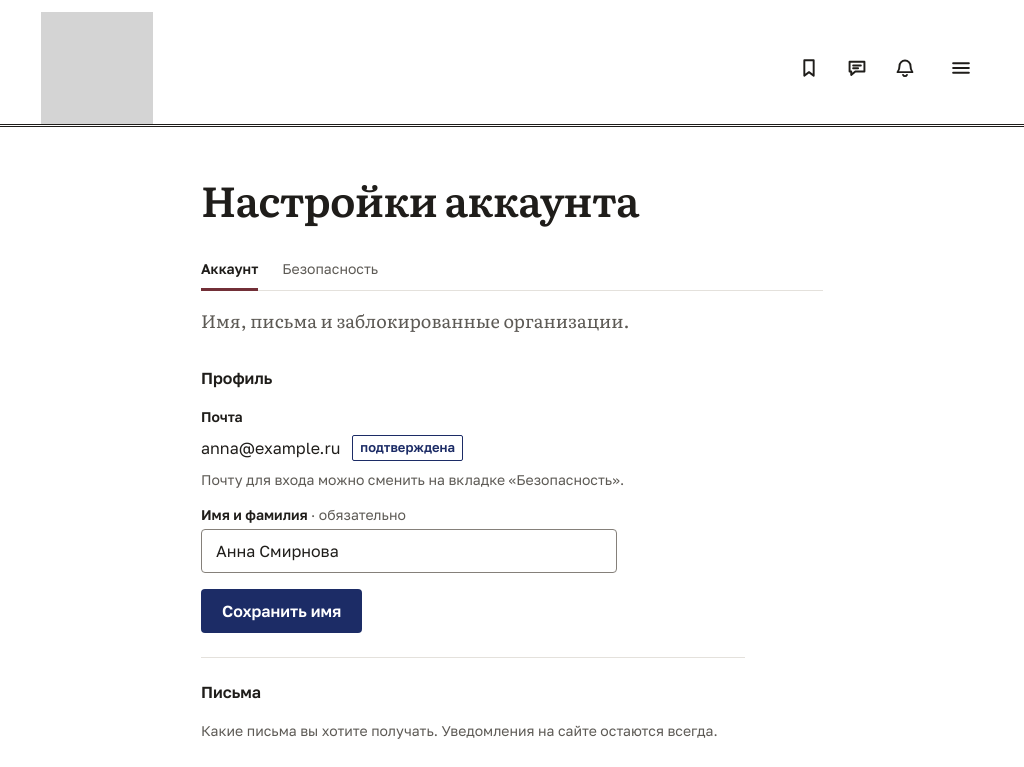
Test: AccountPage › name › is saved, announced and shown in the header
expect the heading "Профиль" is shown: met, box top-left (201, 368), bottom-right (272, 388)
Replace the text in the field labelled "Имя и фамилия · обязательно" with " Анна Петрова ": (409, 551) top-left (201, 529), bottom-right (617, 573)
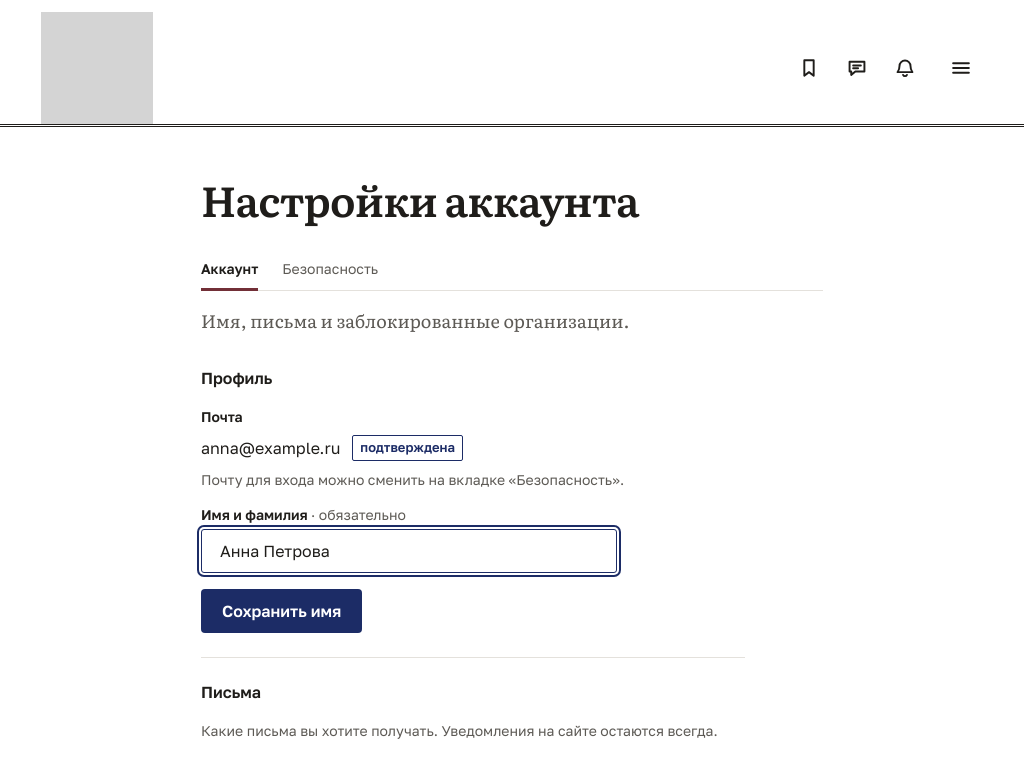
Click the button "Сохранить имя": (282, 611) top-left (201, 589), bottom-right (362, 633)
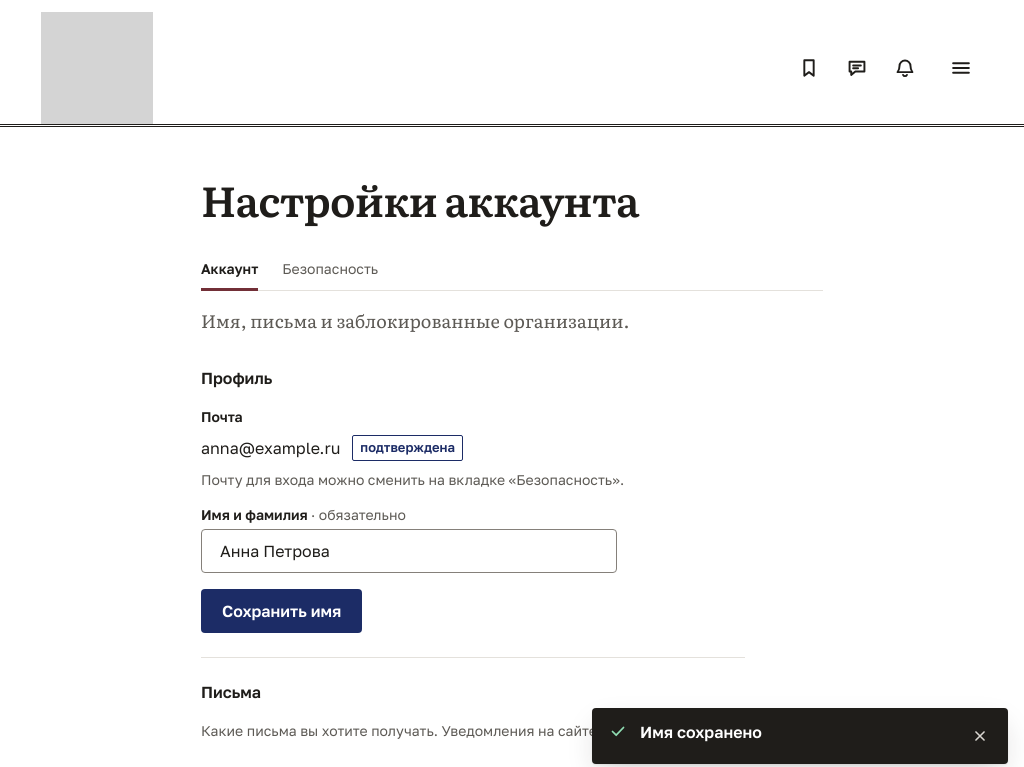
expect the text "Имя сохранено" is shown: met, box top-left (640, 722), bottom-right (762, 742)
